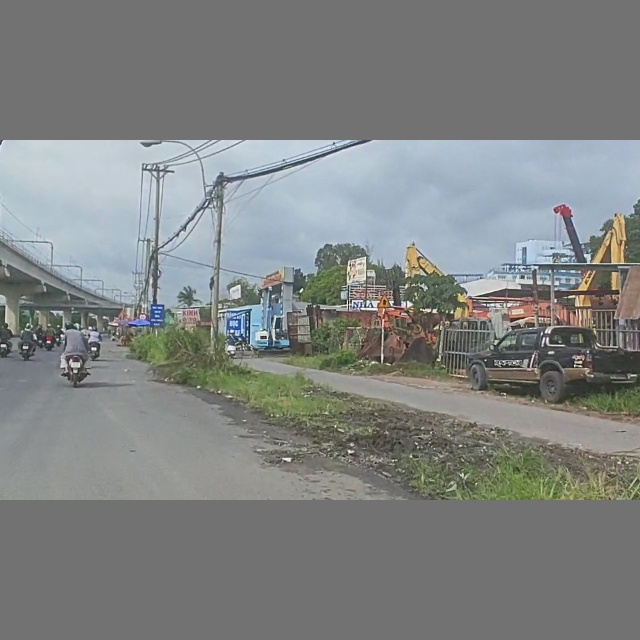W.207: (376, 293, 395, 308)
